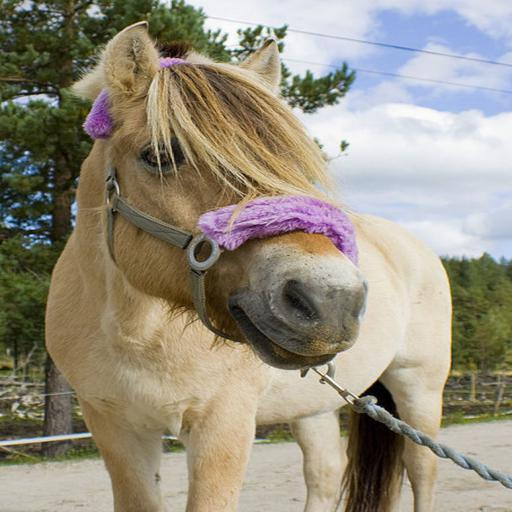horse: (42, 23, 454, 511)
